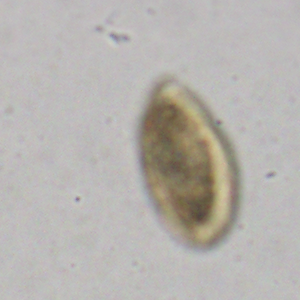Fasciola_hepatica_egg: (134, 72, 240, 253)
